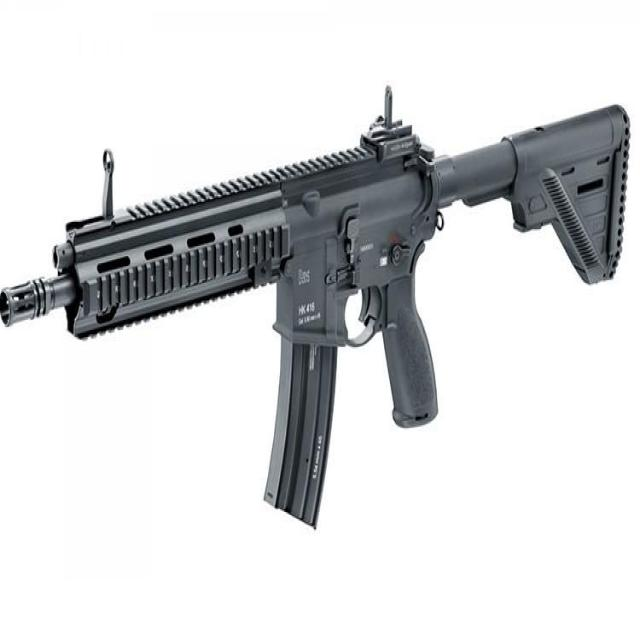weapon: (4, 81, 629, 550)
